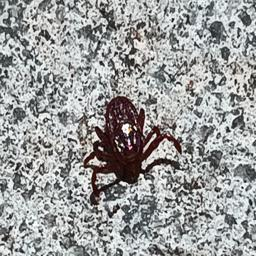Rhipicephalus sanguineus: (82, 96, 182, 196)
